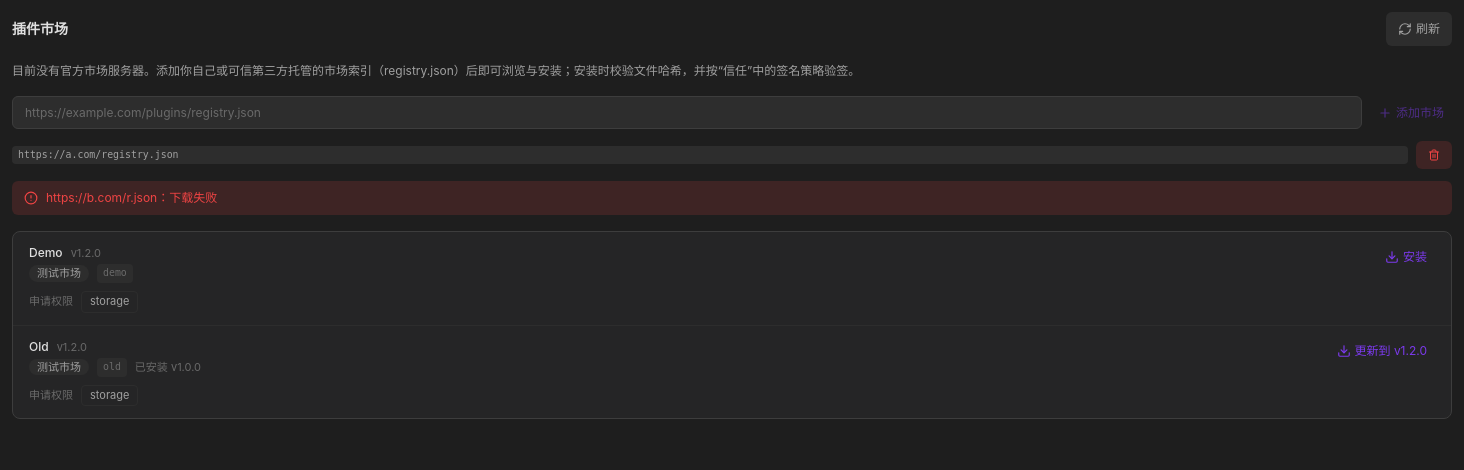
PluginMarket › 列出插件与失败的市场，安装后刷新
This screenshot has width=1464, height=470.
Check: the text "https://b.com/r.json：下载失败" is shown, box [46, 189, 217, 207]
Check: the button "更新到 v1.2.0" is shown, box [1328, 338, 1435, 364]
Click the button "安装". click: (1406, 257)
box: [1377, 244, 1435, 270]
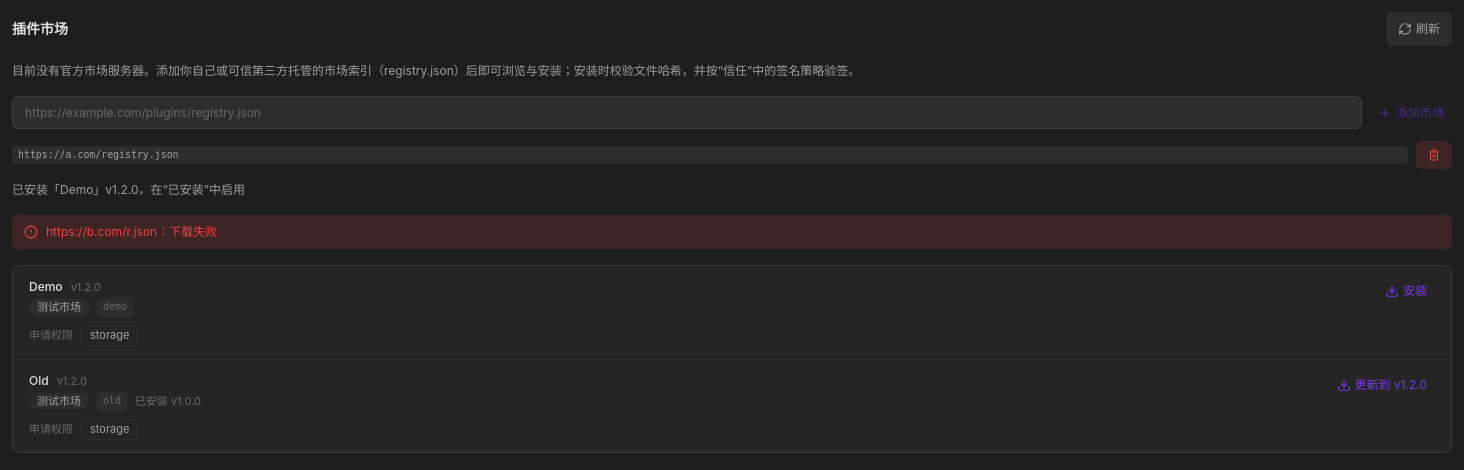
Check: the text "已安装「Demo」v1.2.0，在“已安装”中启用" is shown, box [12, 182, 245, 197]
